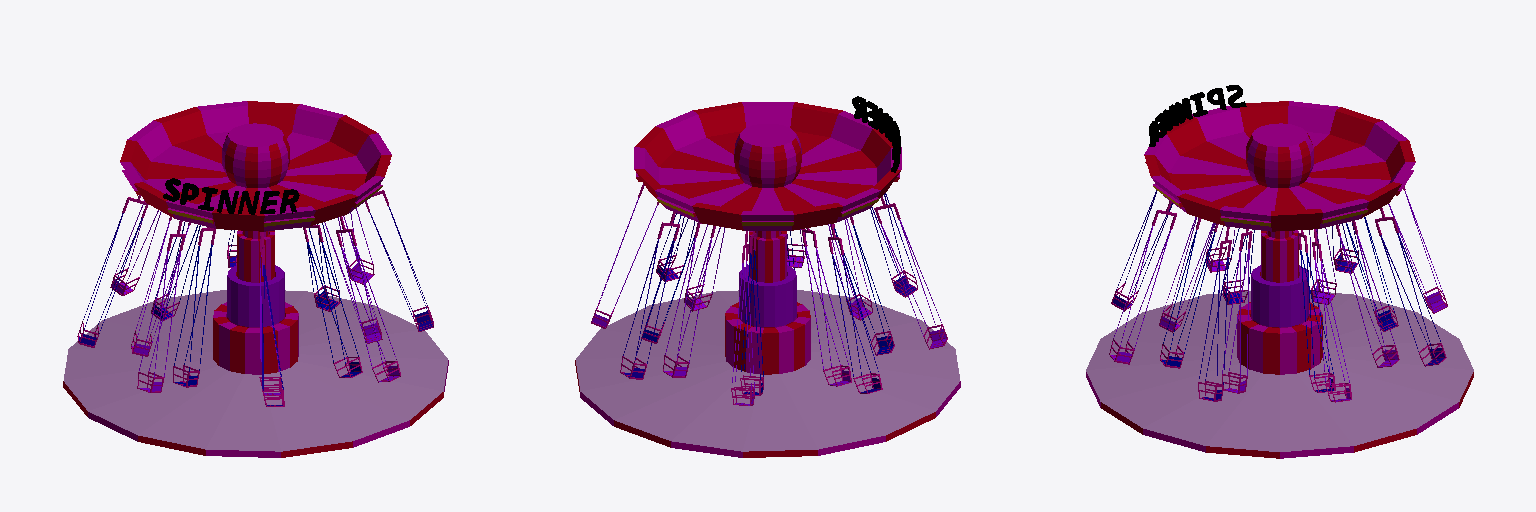
The model's file is carrossel.obj.
The picture shows the model from 3 angles: view 1: azimuth 30°, elevation 25°; view 2: azimuth 150°, elevation 25°; view 3: azimuth 270°, elevation 25°; orthographic projection.
Parts seen in each view (by area): view 1: Cylinder.004_Cylinder.000, Cylinder.001_Cylinder.000; view 2: Cylinder.004_Cylinder.000, Cylinder.001_Cylinder.000; view 3: Cylinder.004_Cylinder.000, Cylinder.001_Cylinder.000.
Boxes of the visible parts, <box> form: Cylinder.004_Cylinder.000: <box>63,230,448,457</box>; Cylinder.001_Cylinder.000: <box>77,101,433,406</box>; Cylinder.004_Cylinder.000: <box>575,231,960,457</box>; Cylinder.001_Cylinder.000: <box>591,96,947,405</box>; Cylinder.004_Cylinder.000: <box>1086,230,1473,458</box>; Cylinder.001_Cylinder.000: <box>1109,85,1447,402</box>.
Bounding box in the file's own units: 7.36 × 5.05 × 7.36.